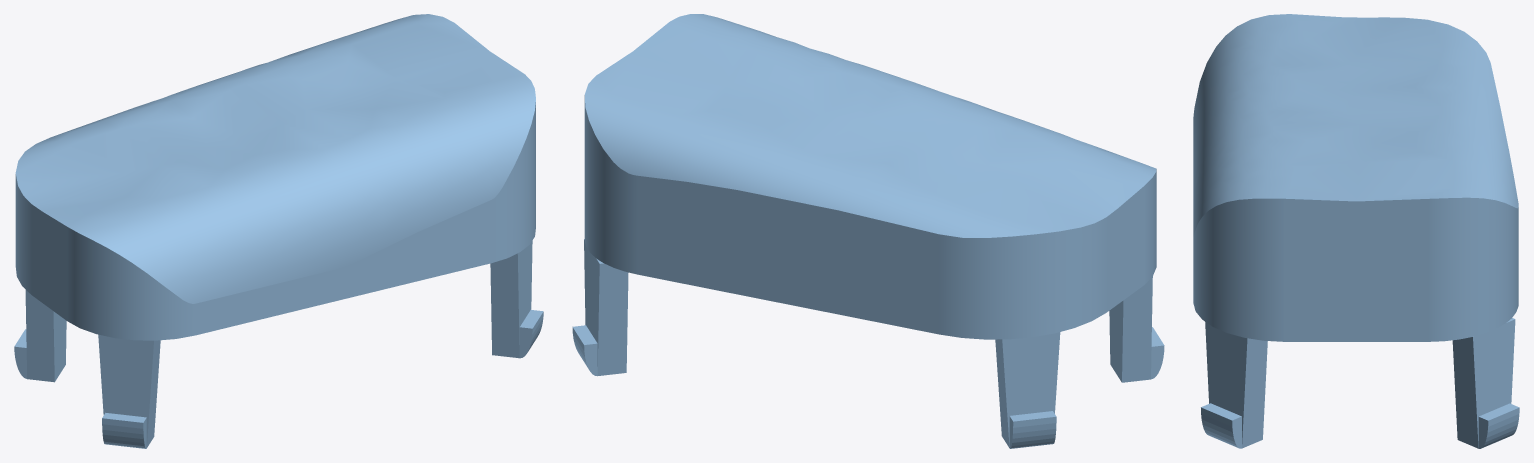
3 views of the same model, side by side, from view 1: azimuth 30°, elevation 25°; view 2: azimuth 150°, elevation 25°; view 3: azimuth 270°, elevation 25° (orthographic). The views are drawn at different scales.
Visible parts, largest first — view 1: part_0; view 2: part_0; view 3: part_0.
Part boxes in pixels (box(x1,y1,x2,y2)): part_0: box(14, 14, 543, 448); part_0: box(572, 14, 1164, 448); part_0: box(1193, 14, 1519, 448).
Size of the model in its own units: 38.92 by 20.3 by 23.34.
